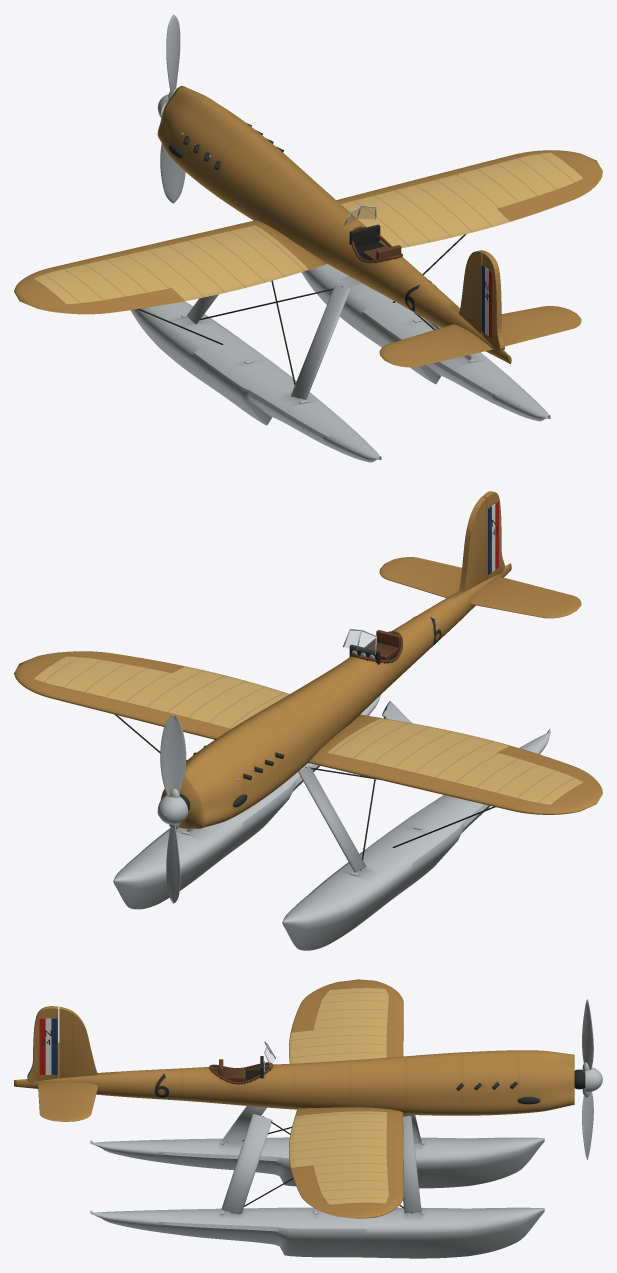
File: gloster6.glb
3 renders of one model, top to bottom at view 1: azimuth 30°, elevation 25°; view 2: azimuth 150°, elevation 25°; view 3: azimuth 270°, elevation 25°, orthographic. The views are drawn at different scales.
Visible parts, largest first — view 1: AircraftBody, Port hard-chine stepped float, Starboard hard-chine stepped float, Fitted trailing-edge aileron, Fitted trailing-edge aileron.001, Fitted tailplane elevator, Curved hinged rudder, Twisted propeller blade.001, Twisted propeller blade; view 2: AircraftBody, Port hard-chine stepped float, Starboard hard-chine stepped float, Twisted propeller blade, Fitted trailing-edge aileron, Fitted trailing-edge aileron.001, Twisted propeller blade.001, Fitted tailplane elevator, Spinner ogive and rear plate, Curved hinged rudder; view 3: AircraftBody, Starboard hard-chine stepped float, Port hard-chine stepped float, Curved hinged rudder, Fitted trailing-edge aileron.001, Fitted trailing-edge aileron, Twisted propeller blade, Twisted propeller blade.001, Fitted tailplane elevator, Rudder national stripe.005, Rudder national stripe.003.
Boxes of the visible parts, x1=… form: AircraftBody: x1=14, y1=86, x2=602, y2=403; Port hard-chine stepped float: x1=130, y1=301, x2=381, y2=462; Starboard hard-chine stepped float: x1=301, y1=264, x2=550, y2=421; Fitted trailing-edge aileron: x1=51, y1=288, x2=184, y2=314; Fitted trailing-edge aileron.001: x1=497, y1=173, x2=599, y2=221; Fitted tailplane elevator: x1=394, y1=318, x2=581, y2=367; Curved hinged rudder: x1=482, y1=252, x2=504, y2=351; Twisted propeller blade.001: x1=160, y1=143, x2=185, y2=203; Twisted propeller blade: x1=166, y1=14, x2=180, y2=95; AircraftBody: x1=14, y1=497, x2=602, y2=875; Port hard-chine stepped float: x1=282, y1=728, x2=550, y2=950; Starboard hard-chine stepped float: x1=113, y1=695, x2=380, y2=909; Twisted propeller blade: x1=160, y1=714, x2=186, y2=796; Fitted trailing-edge aileron: x1=497, y1=745, x2=599, y2=788; Fitted trailing-edge aileron.001: x1=51, y1=651, x2=184, y2=672; Twisted propeller blade.001: x1=166, y1=824, x2=180, y2=903; Fitted tailplane elevator: x1=395, y1=557, x2=581, y2=604; Spinner ogive and rear plate: x1=157, y1=795, x2=188, y2=824; Curved hinged rudder: x1=482, y1=491, x2=504, y2=579; AircraftBody: x1=14, y1=979, x2=585, y2=1218; Starboard hard-chine stepped float: x1=90, y1=1207, x2=544, y2=1258; Port hard-chine stepped float: x1=90, y1=1137, x2=544, y2=1188; Curved hinged rudder: x1=27, y1=1006, x2=58, y2=1082; Fitted trailing-edge aileron.001: x1=290, y1=1165, x2=335, y2=1211; Fitted trailing-edge aileron: x1=290, y1=985, x2=335, y2=1032; Twisted propeller blade: x1=582, y1=999, x2=593, y2=1069; Twisted propeller blade.001: x1=582, y1=1092, x2=593, y2=1159; Fitted tailplane elevator: x1=38, y1=1082, x2=55, y2=1120; Rudder national stripe.005: x1=39, y1=1018, x2=45, y2=1074; Rudder national stripe.003: x1=51, y1=1018, x2=57, y2=1074.
Size of the model in its own units: 7.92 by 3.46 by 8.23.
Materials: 10 (2 with a texture image).
